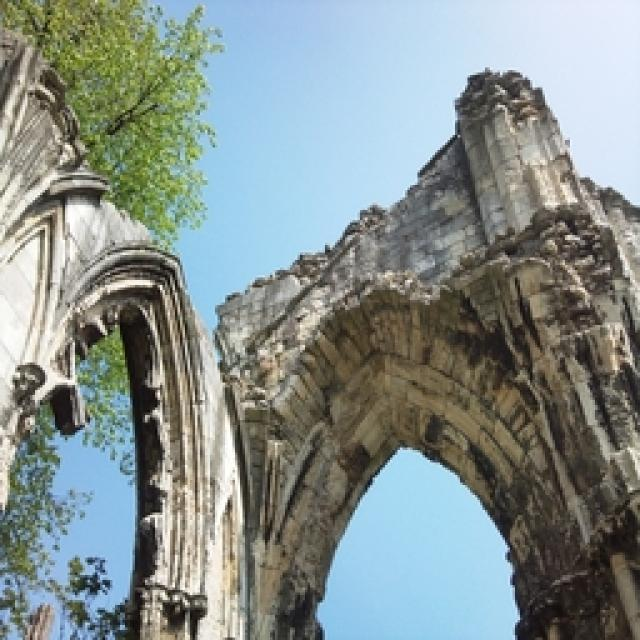Abbey: (6, 89, 640, 640)
